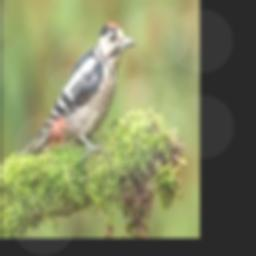Woodpecker: (19, 21, 135, 157)
